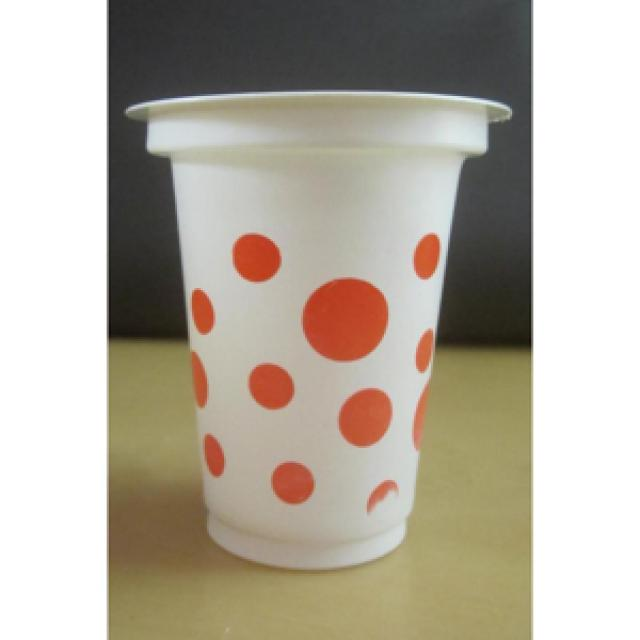plastic cup: (118, 83, 518, 580)
